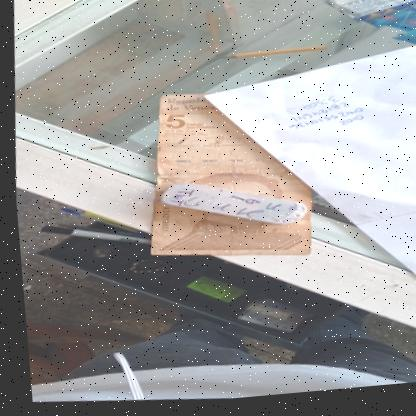five-front-vef: (135, 86, 319, 272)
